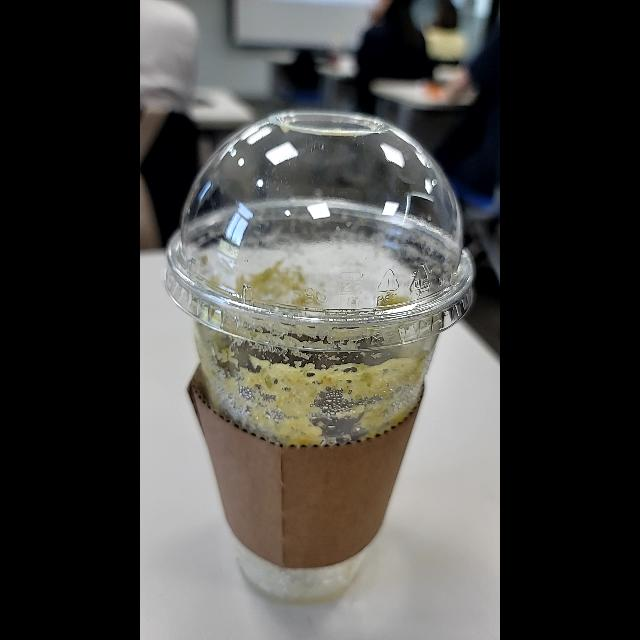plastic_cup_lid: (162, 108, 480, 604), (161, 110, 475, 352)
